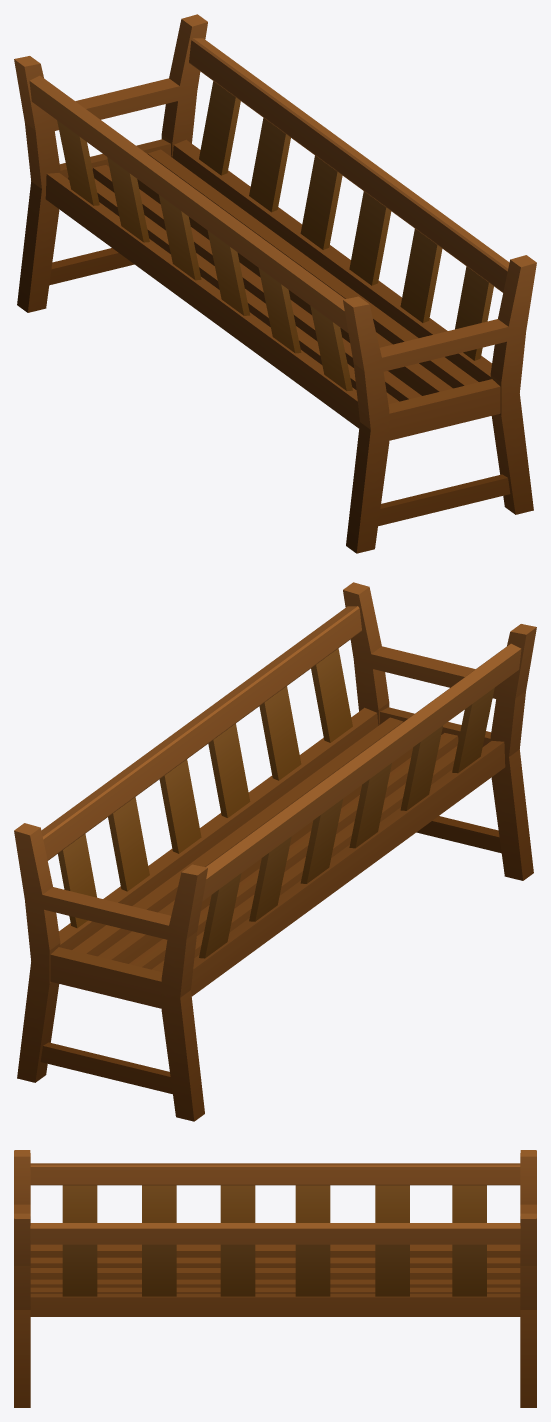
File: Park_Trough.fbx
3 renders of one model, top to bottom at view 1: azimuth 30°, elevation 25°; view 2: azimuth 150°, elevation 25°; view 3: azimuth 270°, elevation 25°, orthographic. The views are drawn at different scales.
Visible parts, largest first — view 1: Park_Trough; view 2: Park_Trough; view 3: Park_Trough.
Part boxes in pixels (x1=…): Park_Trough: x1=14, y1=14, x2=536, y2=553; Park_Trough: x1=14, y1=582, x2=536, y2=1121; Park_Trough: x1=14, y1=1150, x2=536, y2=1407.
Bounding box in the file's own units: 47.09 × 60.51 × 151.
